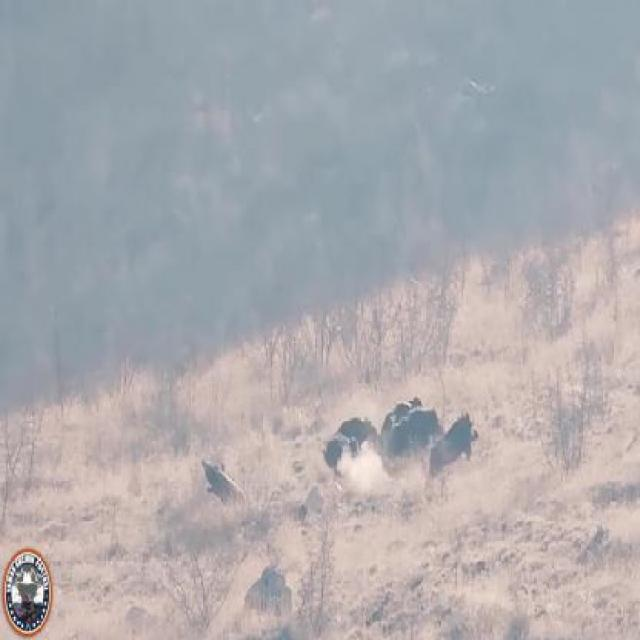pig: (184, 443, 262, 527), (434, 394, 480, 513), (394, 389, 446, 458), (334, 401, 378, 457)
